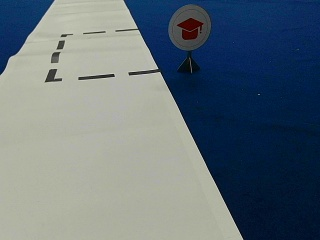school: (168, 4, 211, 49)
